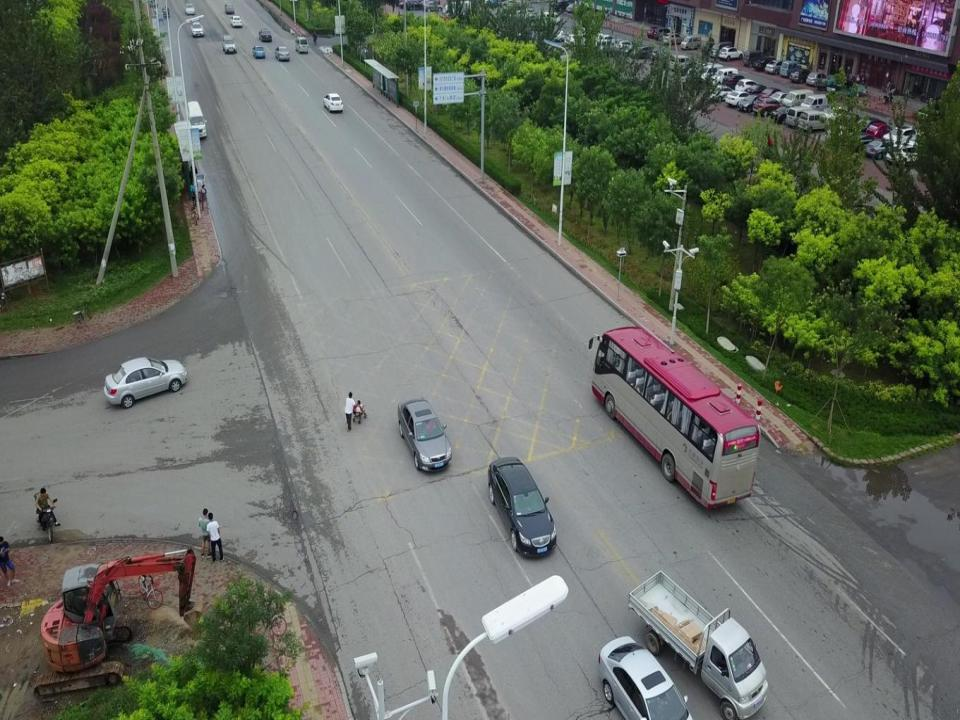bus: (587, 323, 759, 505)
car: (597, 635, 695, 720), (483, 457, 562, 556), (394, 392, 454, 474), (102, 353, 190, 408), (318, 89, 346, 116), (222, 34, 236, 55), (275, 43, 290, 60), (190, 19, 204, 36), (252, 44, 266, 60), (258, 29, 271, 44), (224, 1, 235, 14), (230, 16, 242, 26), (183, 3, 195, 13)
truck: (628, 558, 772, 720)
van: (185, 98, 207, 140), (295, 38, 308, 54)
